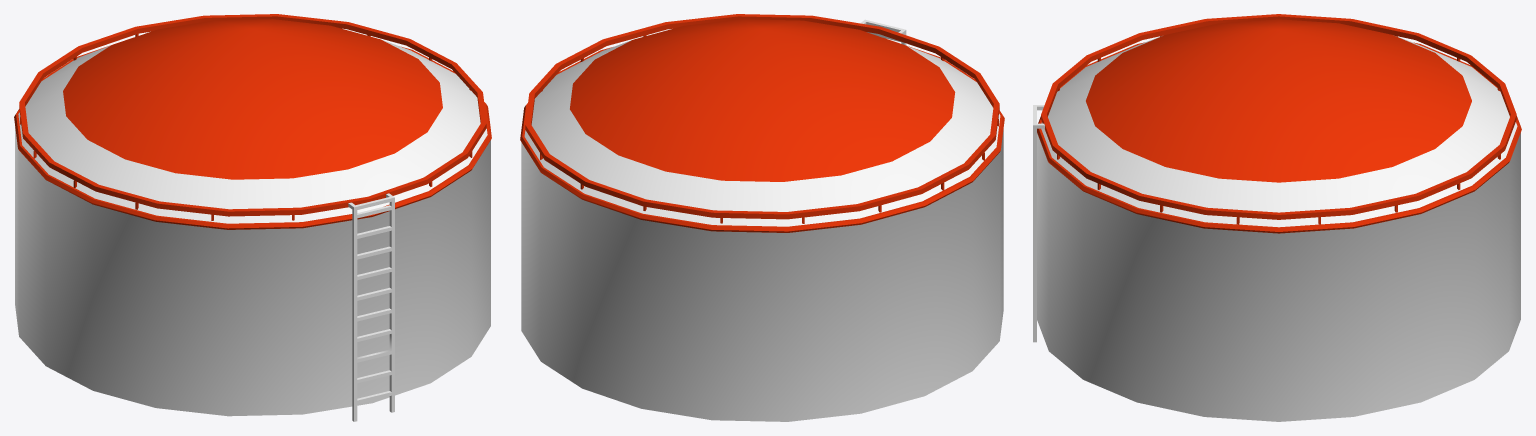
File: SiloLarge.fbx
3 renders of one model, left to right at view 1: azimuth 30°, elevation 25°; view 2: azimuth 150°, elevation 25°; view 3: azimuth 270°, elevation 25°, orthographic.
Parts seen in each view (by area): view 1: SiloLarge_LOD0; view 2: SiloLarge_LOD0; view 3: SiloLarge_LOD0.
Boxes of the visible parts, <box> form: SiloLarge_LOD0: <box>14,14,491,421</box>; SiloLarge_LOD0: <box>520,14,1004,421</box>; SiloLarge_LOD0: <box>1033,14,1521,421</box>.
Size of what is drawn, in the model's own units: 1267 by 870 by 1275.
